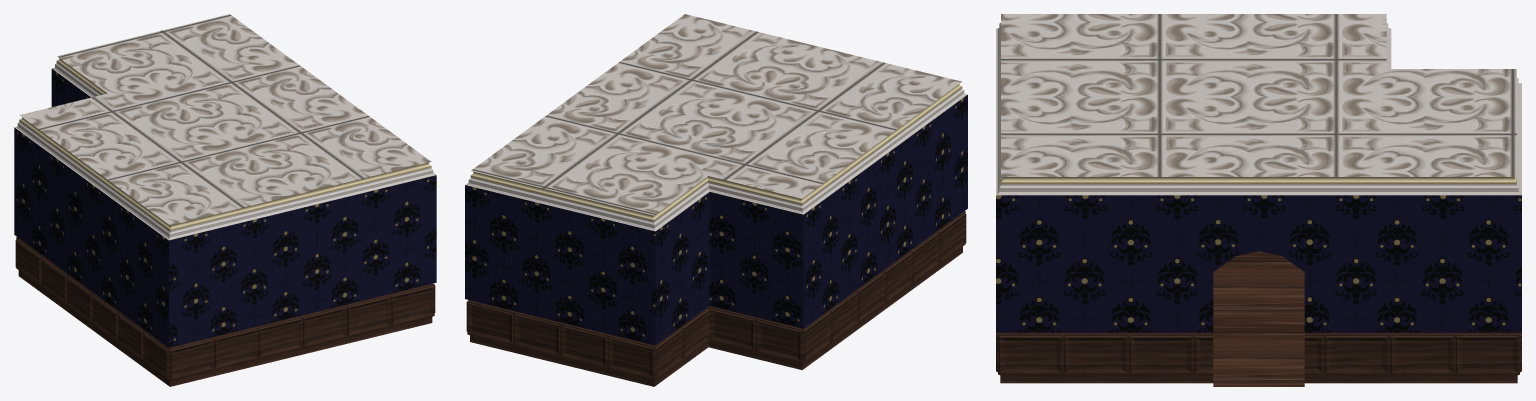
Rendered from Storage_Room_TEMP.fbx.
3 views of the same model, side by side, from view 1: azimuth 30°, elevation 25°; view 2: azimuth 150°, elevation 25°; view 3: azimuth 270°, elevation 25° (orthographic). The views are drawn at different scales.
Visible parts, largest first — view 1: Floor001; view 2: Floor001; view 3: Floor001.
Part boxes in pixels (left/top/right/bottom): Floor001: left=14, top=14, right=436, bottom=386; Floor001: left=465, top=14, right=967, bottom=386; Floor001: left=996, top=14, right=1521, bottom=386.
Size of the model in its own units: 609 by 346 by 800.
